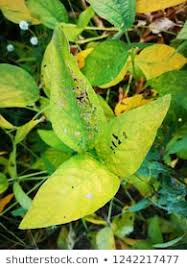Diseased_Leaves: (59, 180, 106, 208), (66, 77, 94, 121), (135, 10, 176, 35), (118, 98, 157, 115), (108, 129, 122, 155)
